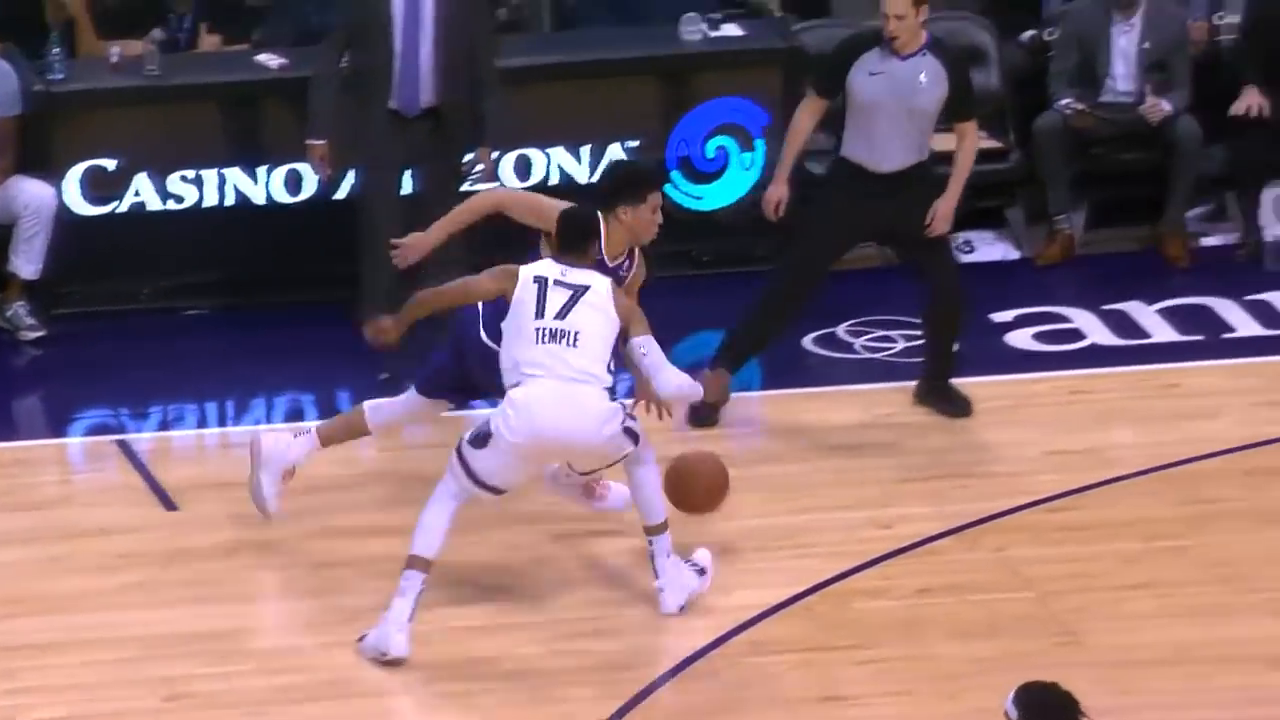ball: (664, 448, 732, 514)
